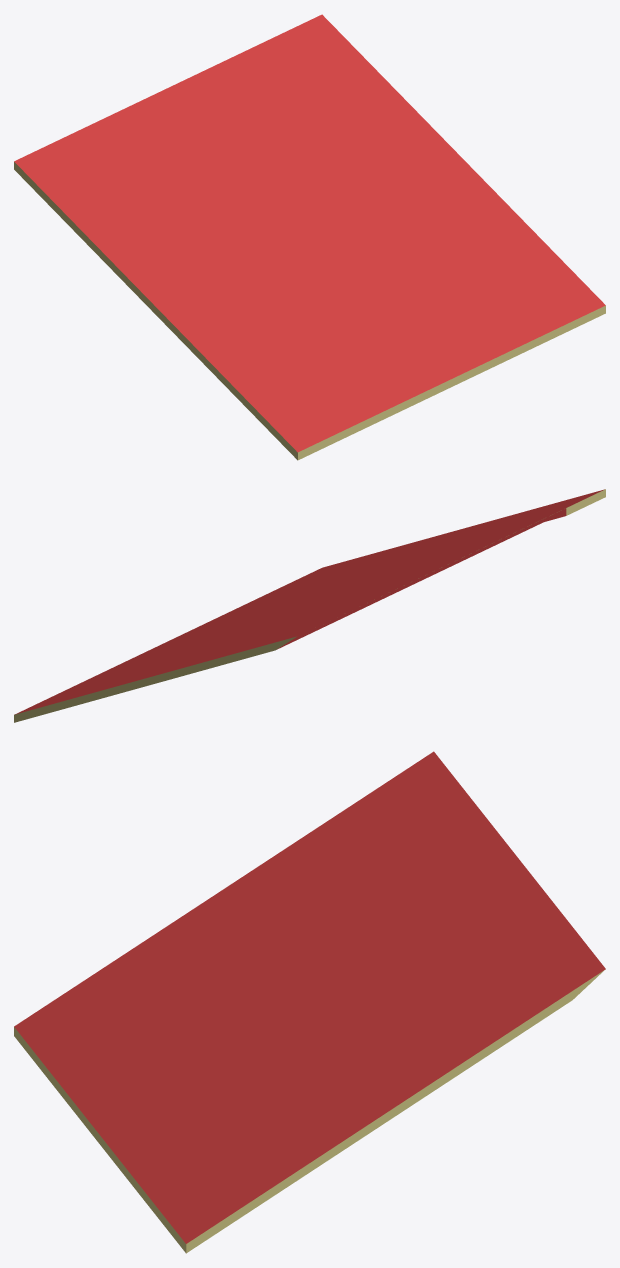
3 views of the same model, one above another, from view 1: azimuth 30°, elevation 25°; view 2: azimuth 210°, elevation 25°; view 3: azimuth 270°, elevation 25° (orthographic). The views are drawn at different scales.
Size of the model in its own units: 6.31 by 5.71 by 2.4.
